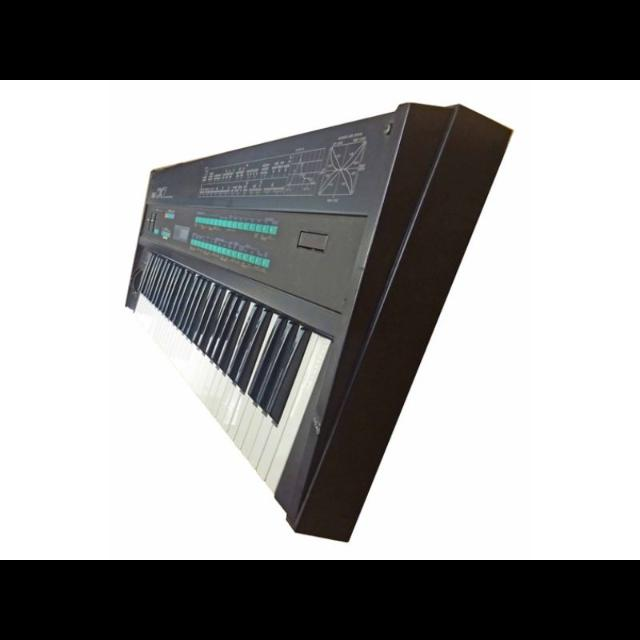Electronic-Keyboard: (114, 95, 556, 545)
